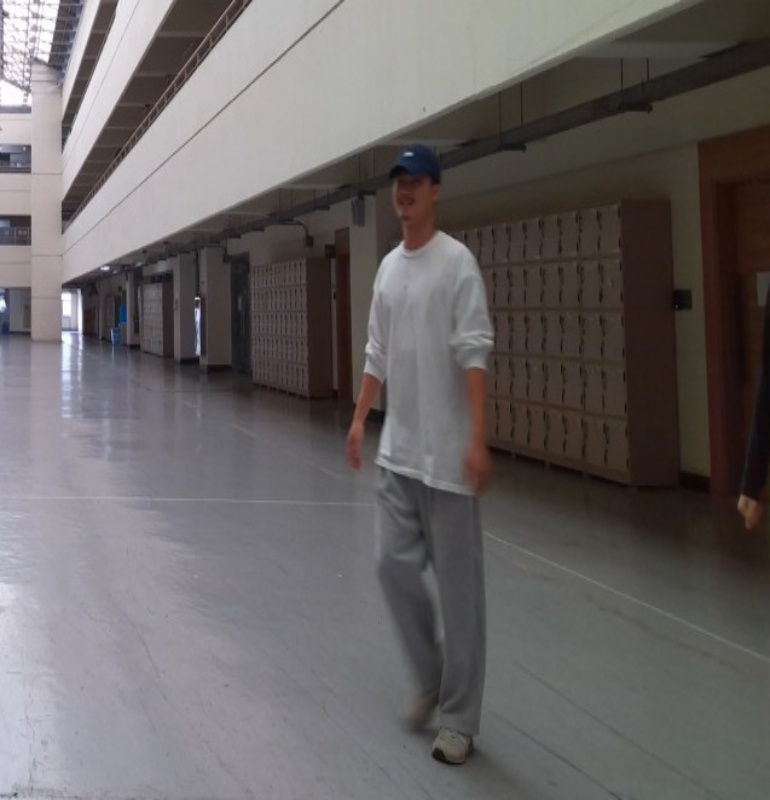person: (345, 144, 499, 763)
